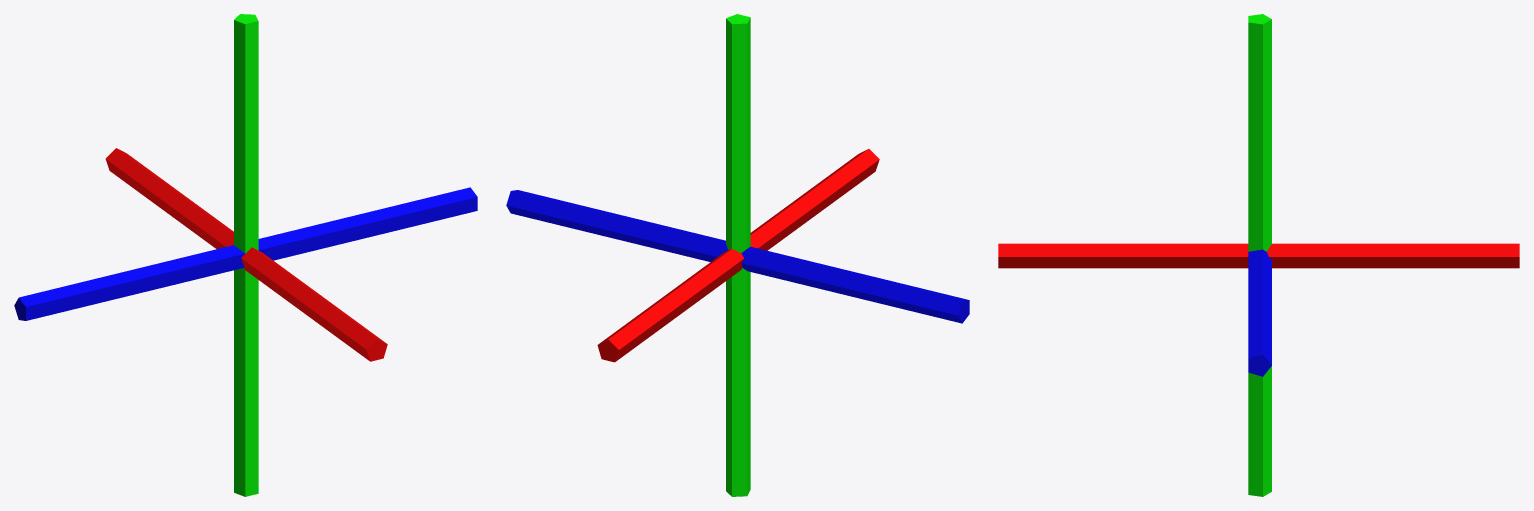
File: xyz_axis.obj
3 views of the same model, side by side, from view 1: azimuth 30°, elevation 25°; view 2: azimuth 150°, elevation 25°; view 3: azimuth 270°, elevation 25° (orthographic).
Parts seen in each view (by area): view 1: zAxi_円柱.002, yAxi_円柱.001, xAxis_円柱; view 2: zAxi_円柱.002, yAxi_円柱.001, xAxis_円柱; view 3: xAxis_円柱, zAxi_円柱.002, yAxi_円柱.001.
Boxes of the visible parts, x1,y1,x2,y2 form: zAxi_円柱.002: (234,14,258,496); yAxi_円柱.001: (14,187,477,320); xAxis_円柱: (105,148,387,361); zAxi_円柱.002: (726,14,750,496); yAxi_円柱.001: (506,190,969,323); xAxis_円柱: (597,149,879,362); xAxis_円柱: (998,243,1519,268); zAxi_円柱.002: (1248,14,1271,496); yAxi_円柱.001: (1248,249,1271,376).
Size of the model in its own units: 20 by 20 by 20.
